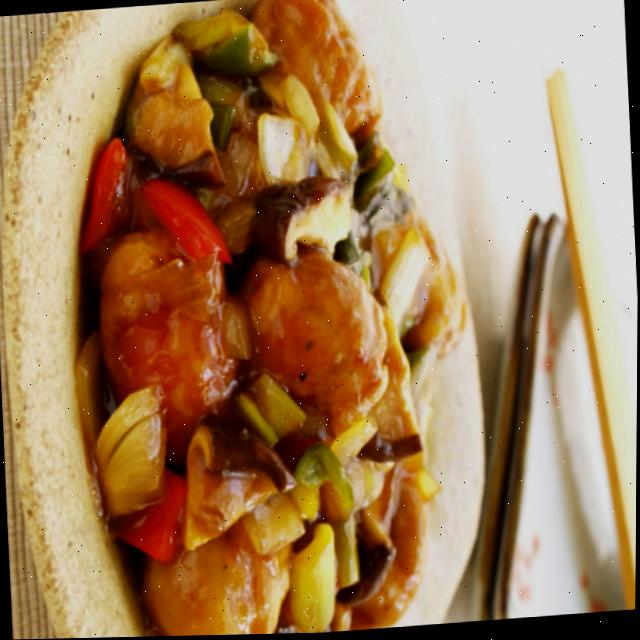猪肉菜式: (130, 0, 509, 569)
